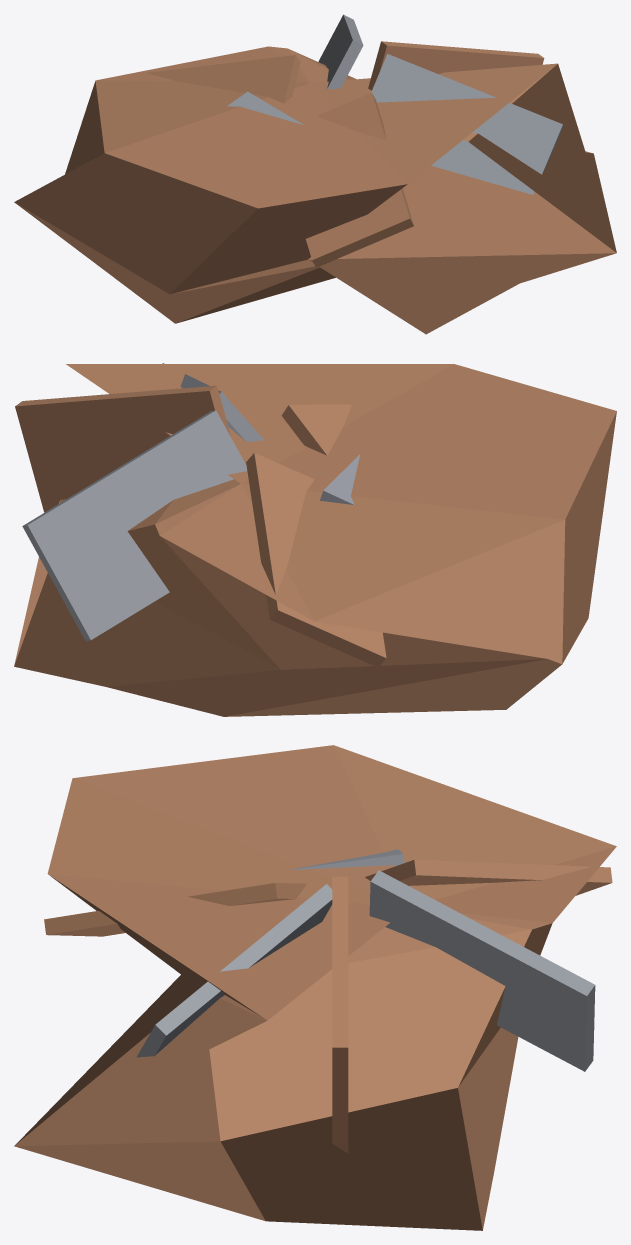
File: scrap_pile.glb
3 renders of one model, top to bottom at view 1: azimuth 30°, elevation 25°; view 2: azimuth 150°, elevation 25°; view 3: azimuth 270°, elevation 25°, orthographic. The views are drawn at different scales.
Visible parts, largest first — view 1: scrap_pile; view 2: scrap_pile; view 3: scrap_pile.
Boxes of the visible parts, x1,y1,x2,y2 form: scrap_pile: [14, 14, 616, 334]; scrap_pile: [14, 363, 616, 716]; scrap_pile: [14, 745, 616, 1230].
Size of the model in its own units: 4.77 by 2.25 by 3.79.
